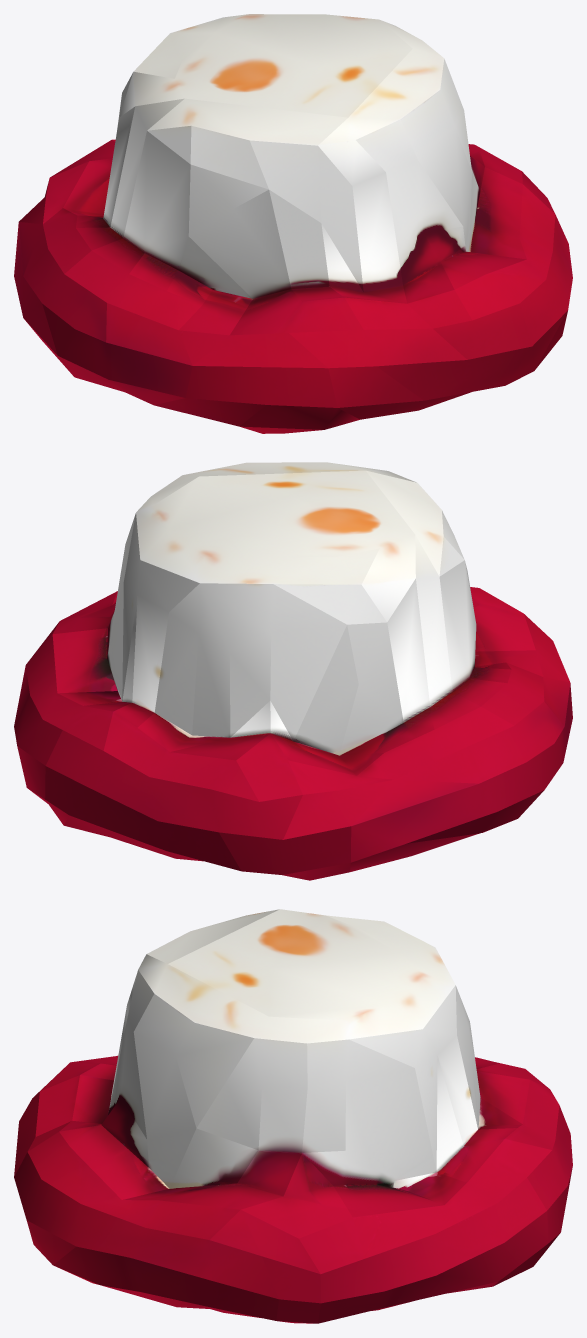
Rendered from tooth1_0.5.fbx.
3 renders of one model, top to bottom at view 1: azimuth 30°, elevation 25°; view 2: azimuth 150°, elevation 25°; view 3: azimuth 270°, elevation 25°, orthographic.
Parts seen in each view (by area): view 1: temp; view 2: temp; view 3: temp.
Part boxes in pixels (left/top/right/bottom): temp: left=14, top=14, right=572, bottom=433; temp: left=14, top=462, right=572, bottom=880; temp: left=14, top=909, right=572, bottom=1323.
Bounding box in the file's own units: 1.91 × 1.13 × 1.91.
1 material, 1 textured.
